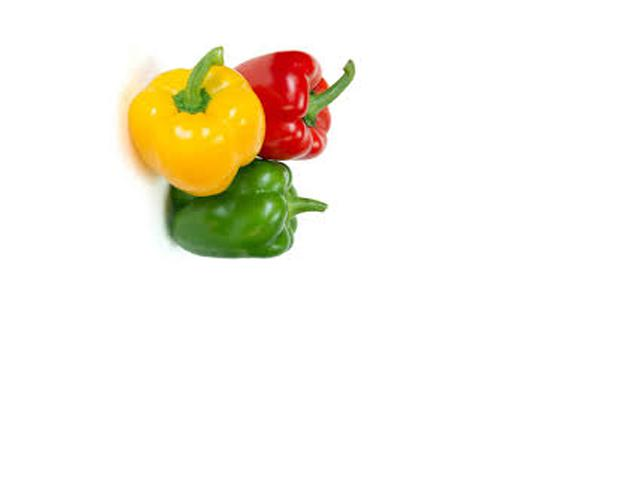bell_pepper: (216, 30, 367, 176)
